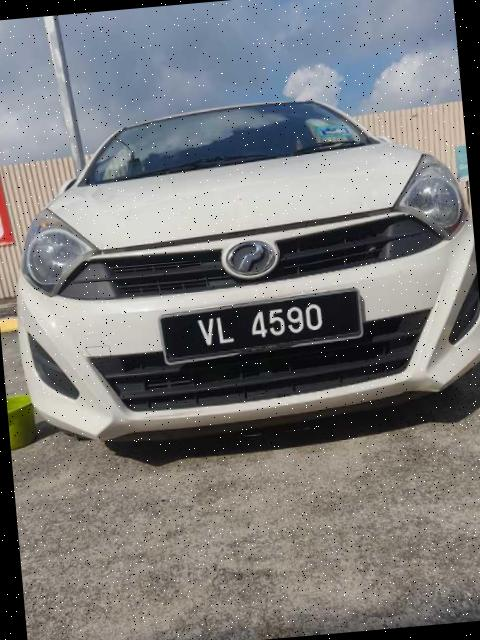License_Plate: (157, 286, 367, 366)
car: (1, 84, 480, 452)
